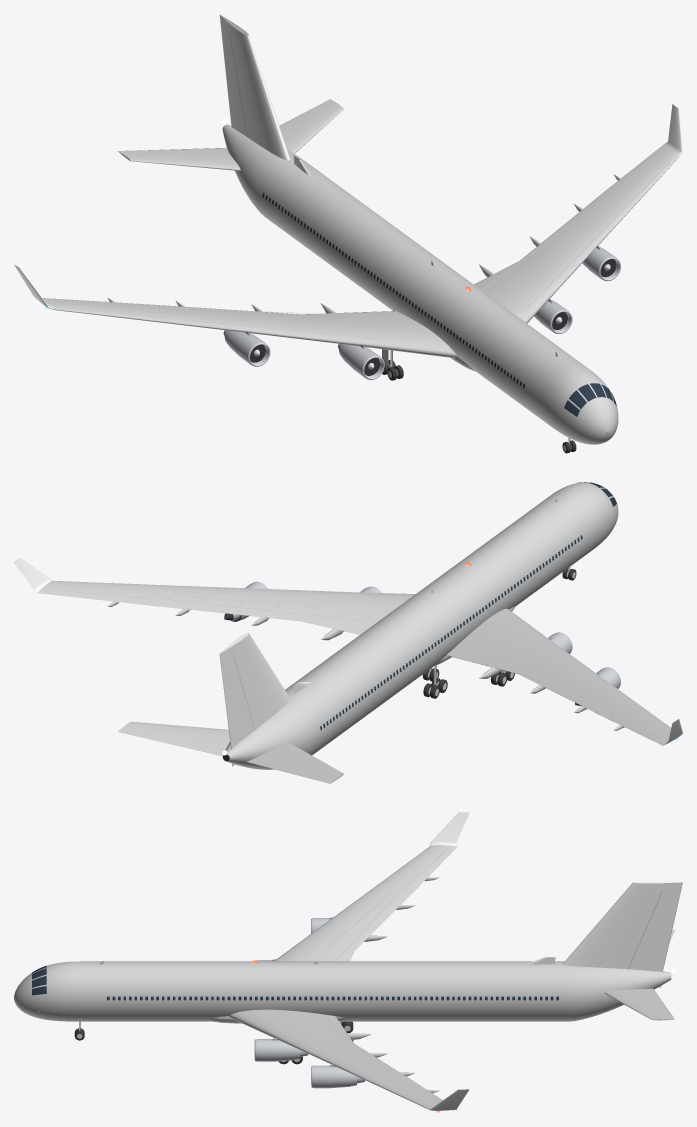
The picture shows the model from 3 angles, top to bottom: view 1: azimuth 30°, elevation 25°; view 2: azimuth 150°, elevation 25°; view 3: azimuth 270°, elevation 25°; orthographic projection. The views are drawn at different scales.
Visible parts, largest first — view 1: airframe; view 2: airframe, gear; view 3: airframe.
Boxes of the visible parts, left/top/right/bottom form: airframe: left=14, top=15, right=682, bottom=444; airframe: left=14, top=482, right=682, bottom=783; gear: left=422, top=567, right=576, bottom=698; airframe: left=14, top=812, right=682, bottom=1112.
Size of the model in its own units: 63.48 by 16.71 by 64.74.
